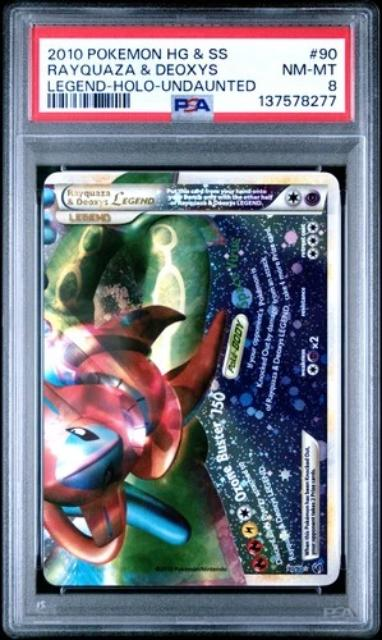Card: (37, 167, 346, 589)
Name: (63, 183, 162, 211)
